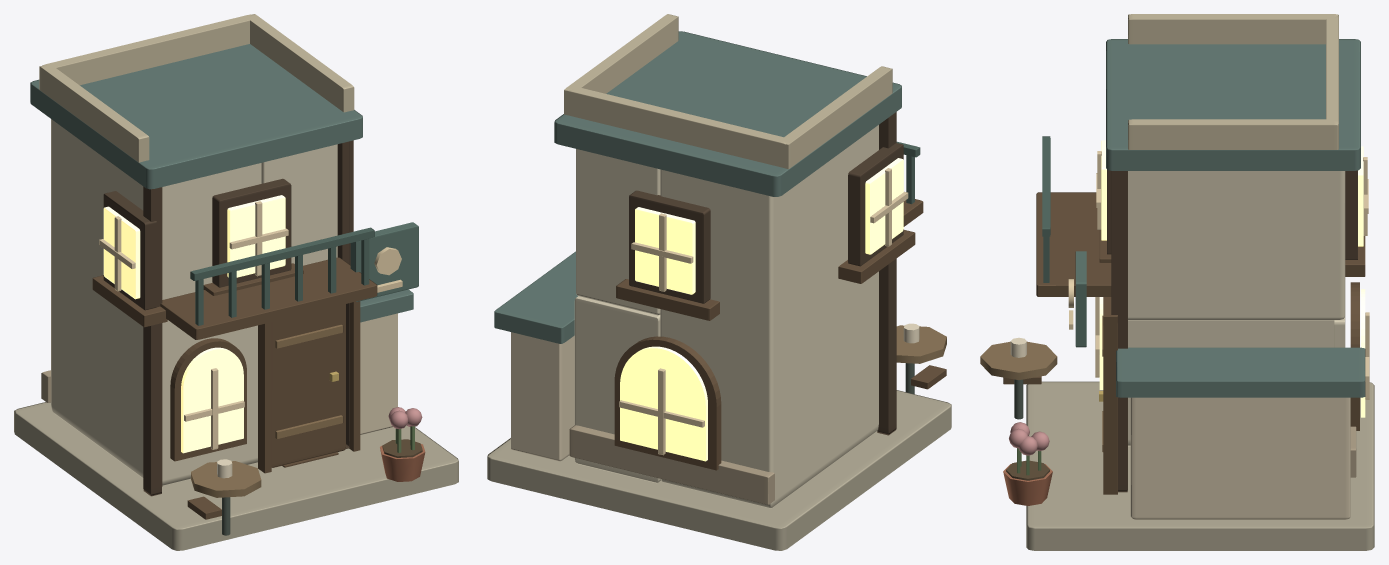
The model's file is cafe-0.glb.
3 renders of one model, left to right at view 1: azimuth 30°, elevation 25°; view 2: azimuth 150°, elevation 25°; view 3: azimuth 270°, elevation 25°, orthographic. The views are drawn at different scales.
Parts seen in each view (by area): view 1: cafe-0-0, door-hinge; view 2: cafe-0-0; view 3: cafe-0-0.
Part boxes in pixels (x1,y1,x2,y2): cafe-0-0: (14, 14, 458, 550); door-hinge: (271, 304, 345, 467); cafe-0-0: (487, 14, 951, 550); cafe-0-0: (980, 14, 1374, 550).
Size of the model in its own units: 1.9 by 2.38 by 2.15.
